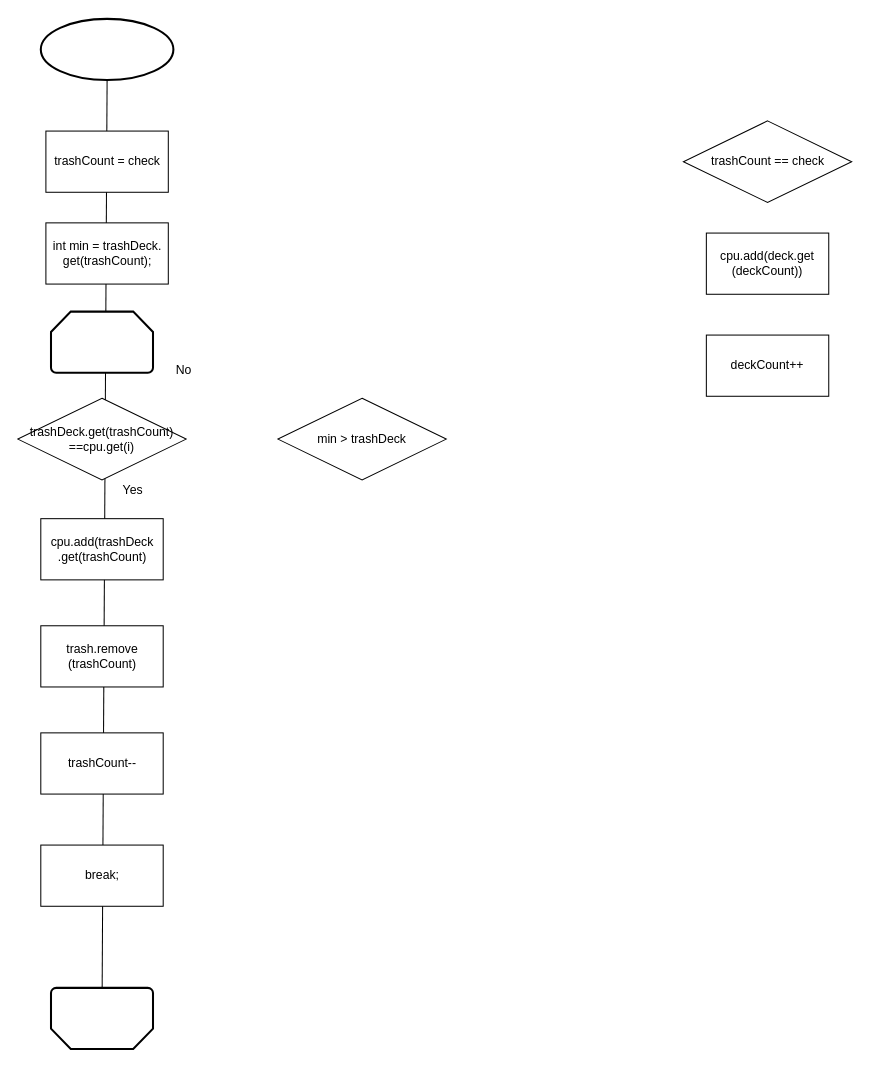
The diagram is 870 pixels wide and 1067 high, and some of its shapes have lost their labels. The box of each missing label's shape, as (x1, y1, x2, y2) in pixels:
i : 0, 1 , cpu.size(5): (49, 310, 154, 373)
開始: (39, 17, 174, 81)
